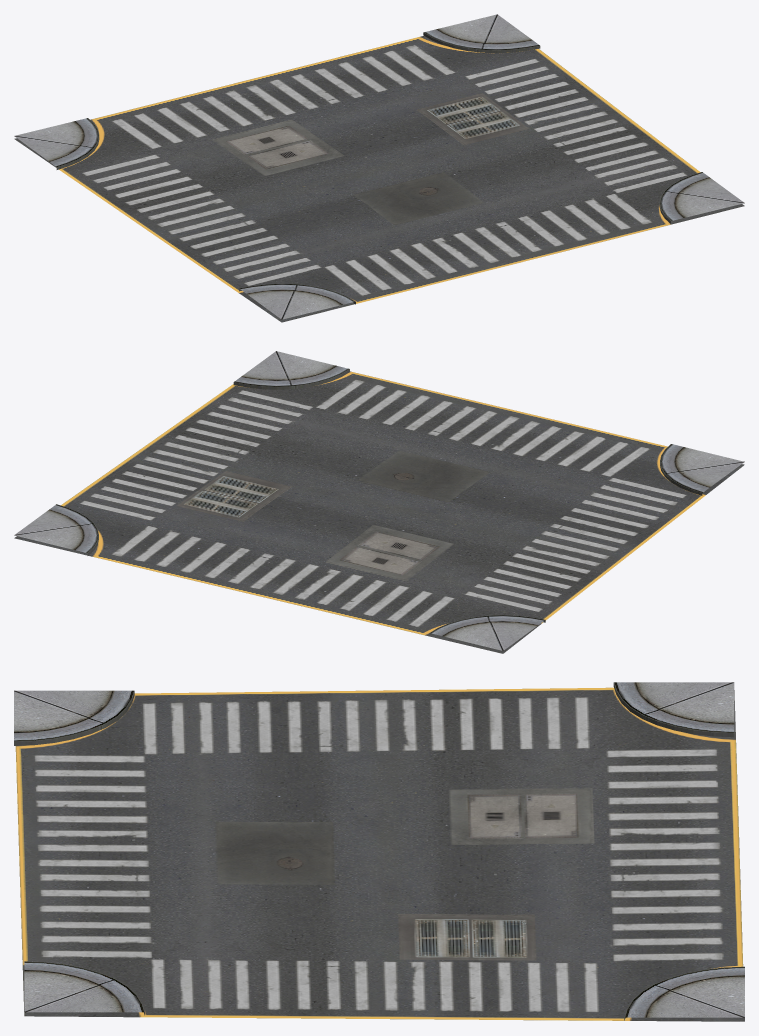
File: road25.glb
3 renders of one model, top to bottom at view 1: azimuth 30°, elevation 25°; view 2: azimuth 150°, elevation 25°; view 3: azimuth 270°, elevation 25°, orthographic. The views are drawn at different scales.
Parts seen in each view (by area): view 1: Road_X_Intersection_City_Road_mat_0.002; view 2: Road_X_Intersection_City_Road_mat_0.002; view 3: Road_X_Intersection_City_Road_mat_0.002.
Boxes of the visible parts, x1=… form: Road_X_Intersection_City_Road_mat_0.002: x1=14, y1=14, x2=744, y2=322; Road_X_Intersection_City_Road_mat_0.002: x1=14, y1=351, x2=744, y2=653; Road_X_Intersection_City_Road_mat_0.002: x1=14, y1=682, x2=744, y2=1021.
Bounding box in the file's own units: 35.76 × 0.2045 × 32.92.
Materials: 2 (2 with a texture image).
